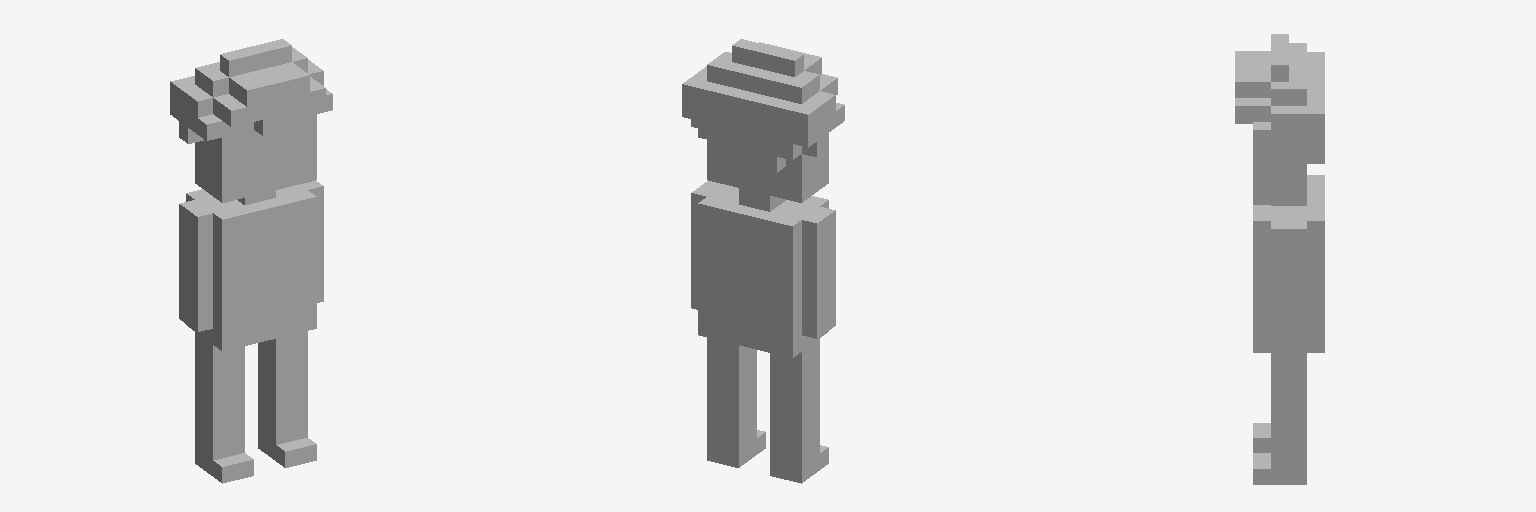
The model's file is player.obj.
The picture shows the model from 3 angles: view 1: azimuth 30°, elevation 25°; view 2: azimuth 150°, elevation 25°; view 3: azimuth 270°, elevation 25°; orthographic projection.
Bounding box in the file's own units: 8 × 25 × 5.